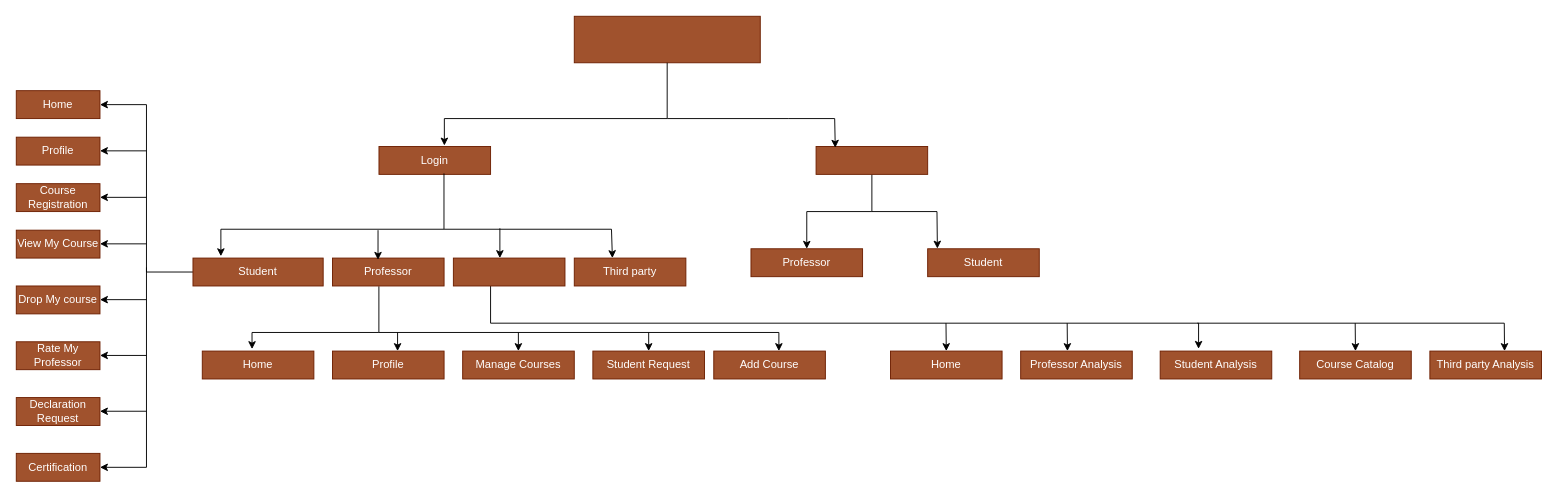
Some shapes in this 1558 by 498 pixel diagram are drawn without their labels. Here are the shapes that lost their labels. From the top down, the centre of each, then its label:
the point at 666,39: HOME PAGE
the point at 871,160: SignUp
the point at 508,271: Admin
